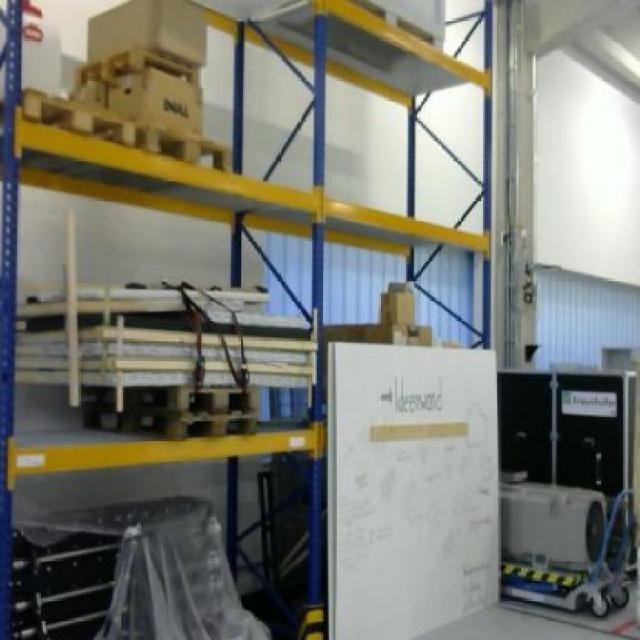box: (87, 0, 207, 65), (106, 69, 206, 134), (379, 290, 416, 326)
